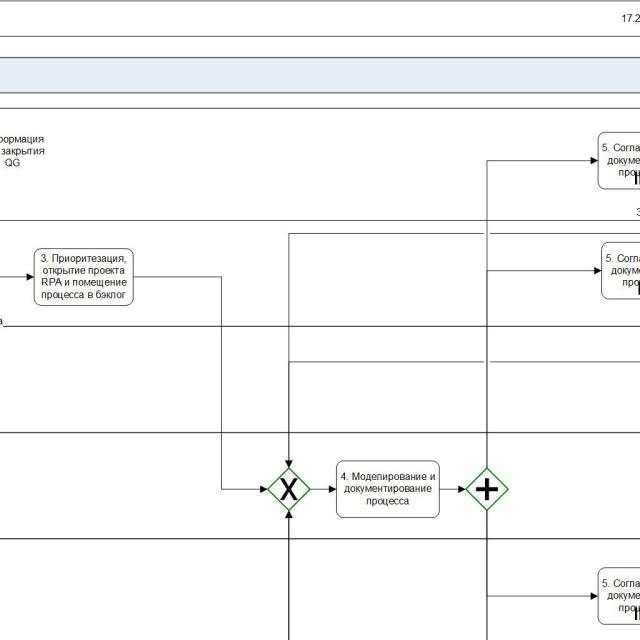arrow: (482, 154, 601, 465), (134, 273, 266, 496)
diamond: (268, 468, 311, 512), (465, 468, 508, 510)
rectangle: (336, 460, 441, 518), (32, 247, 134, 306)
